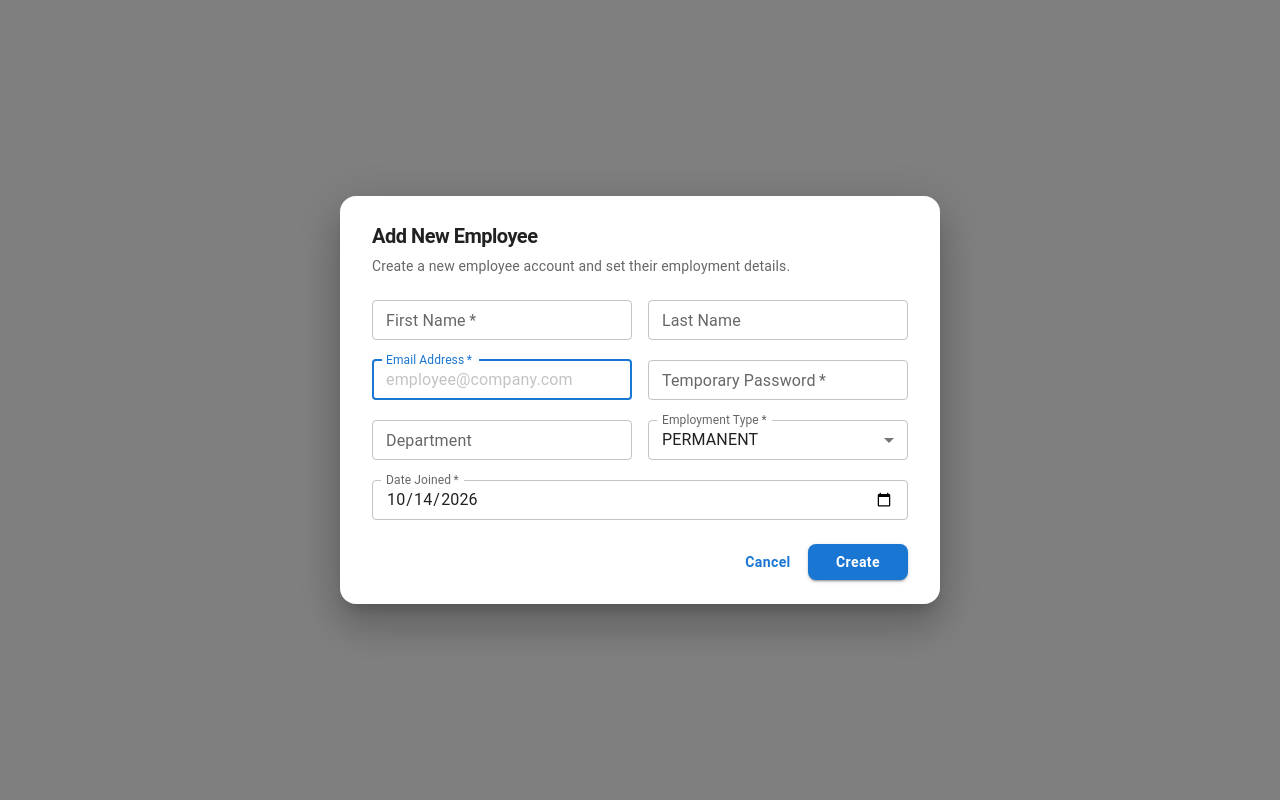
it: shows server validation feedback and keeps the form available to correct it
Type "Riya" into the field labelled "First Name *".
click(502, 320); type("Riya")  # box [372,300,632,340]
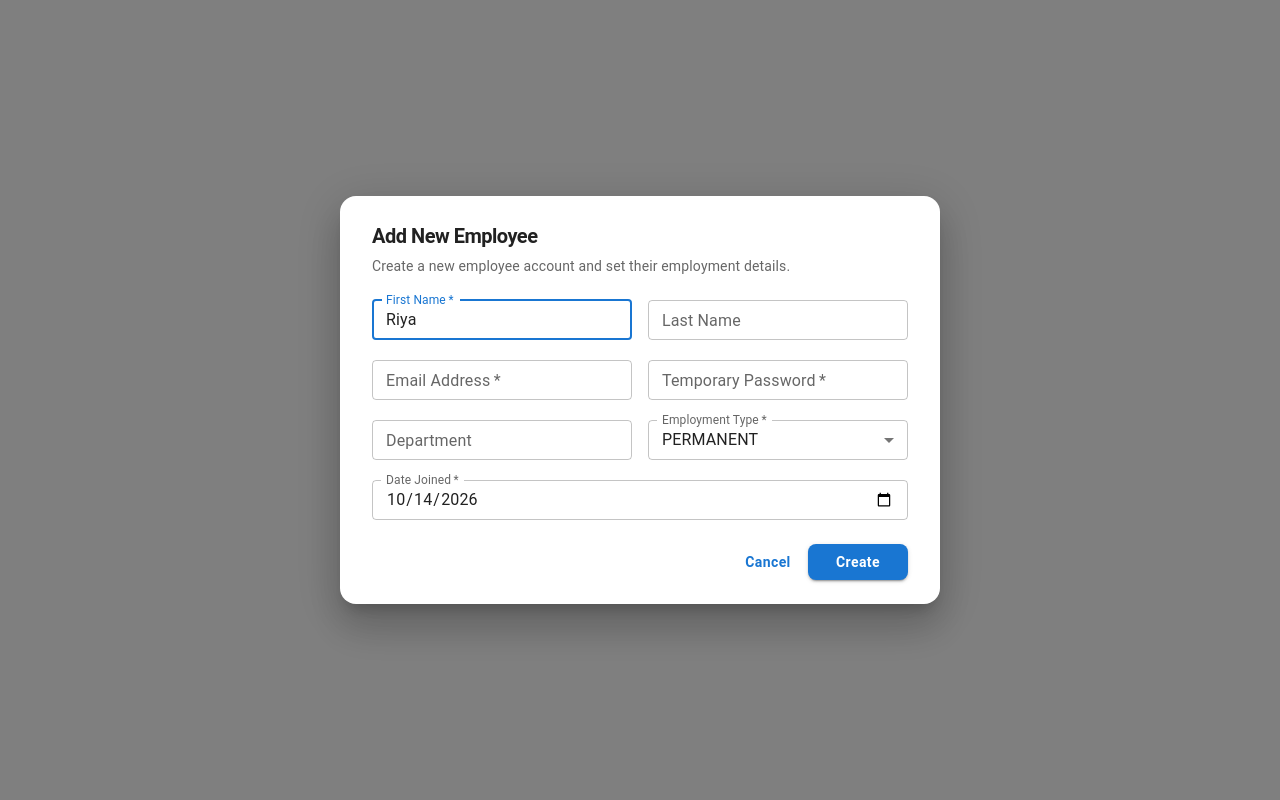
Type "taken@example.test" into the field labelled "Email Address *".
click(502, 380); type("taken@example.test")  # box [372,360,632,400]
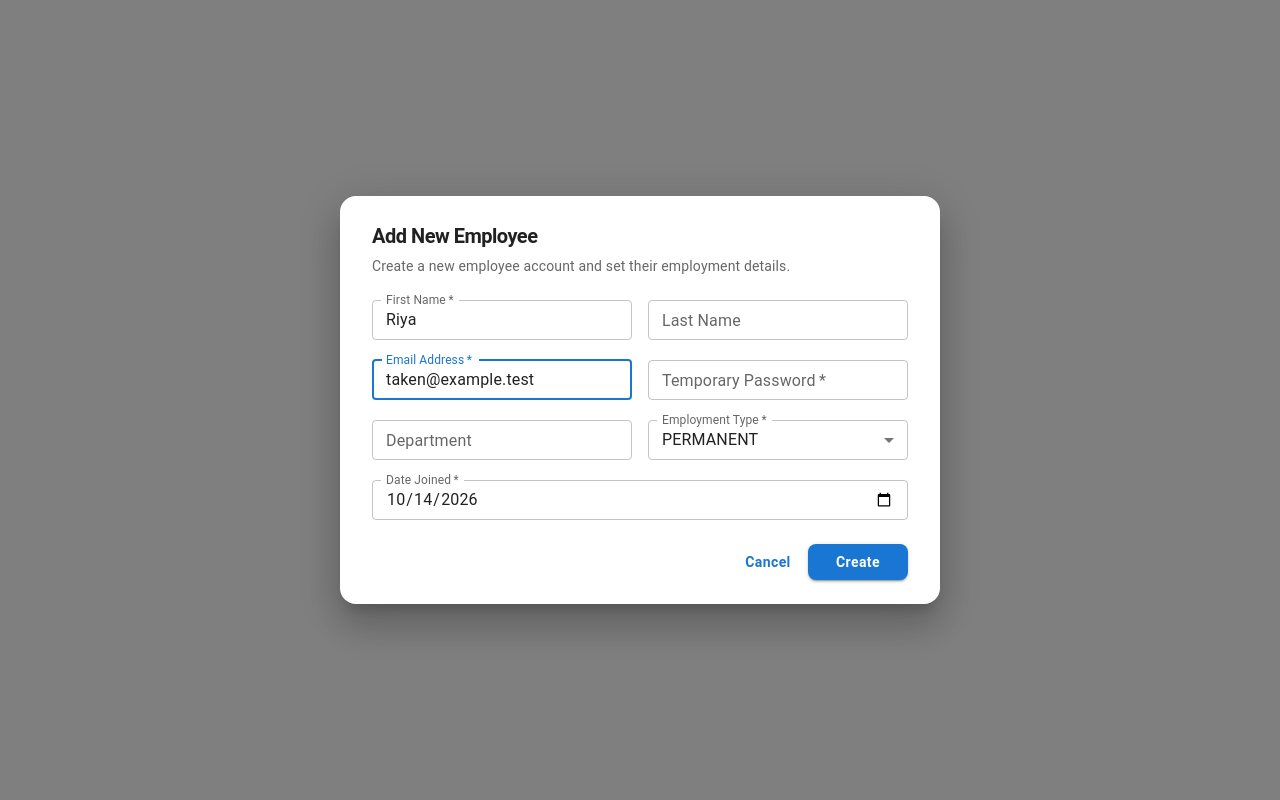
Type "TempPass1!" into the field labelled "Temporary Password *".
click(778, 380); type("TempPass1!")  # box [648,360,908,400]
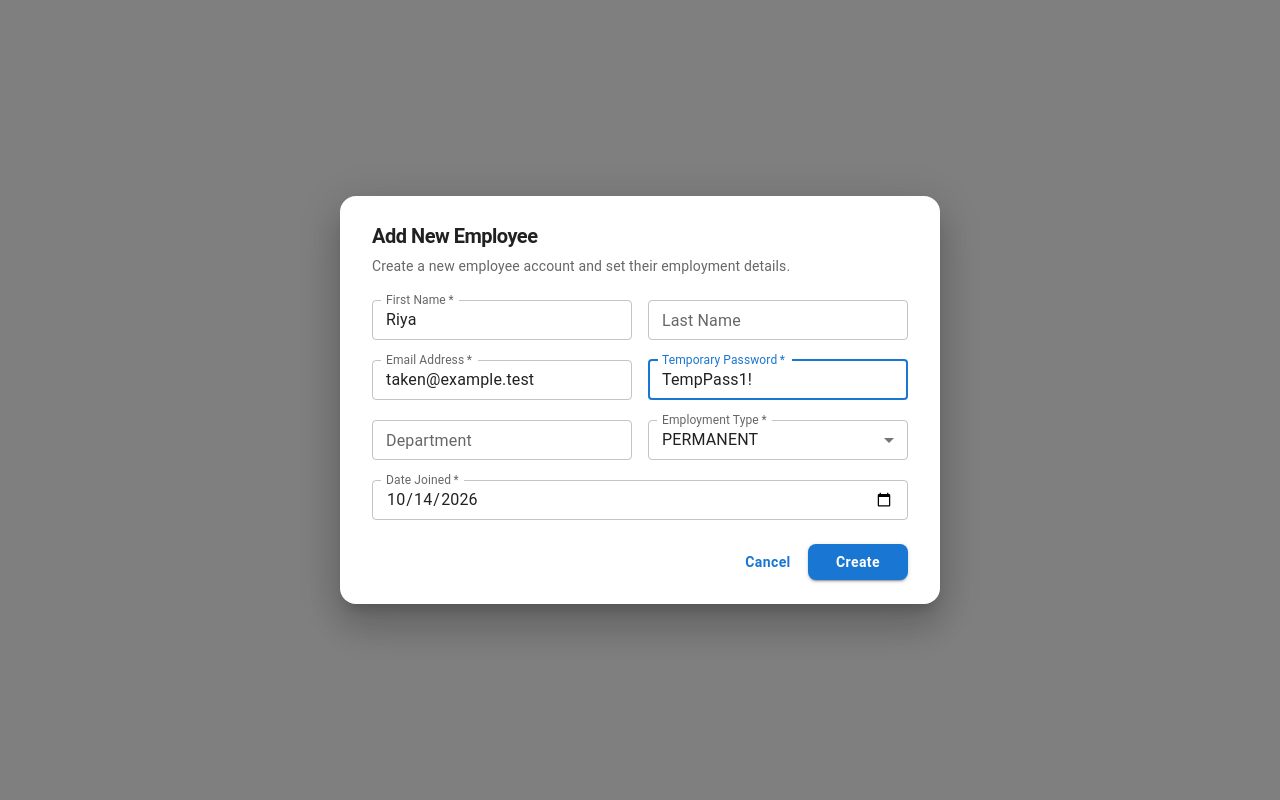
Click the button "Create".
click(858, 562)  # box [808,544,908,580]
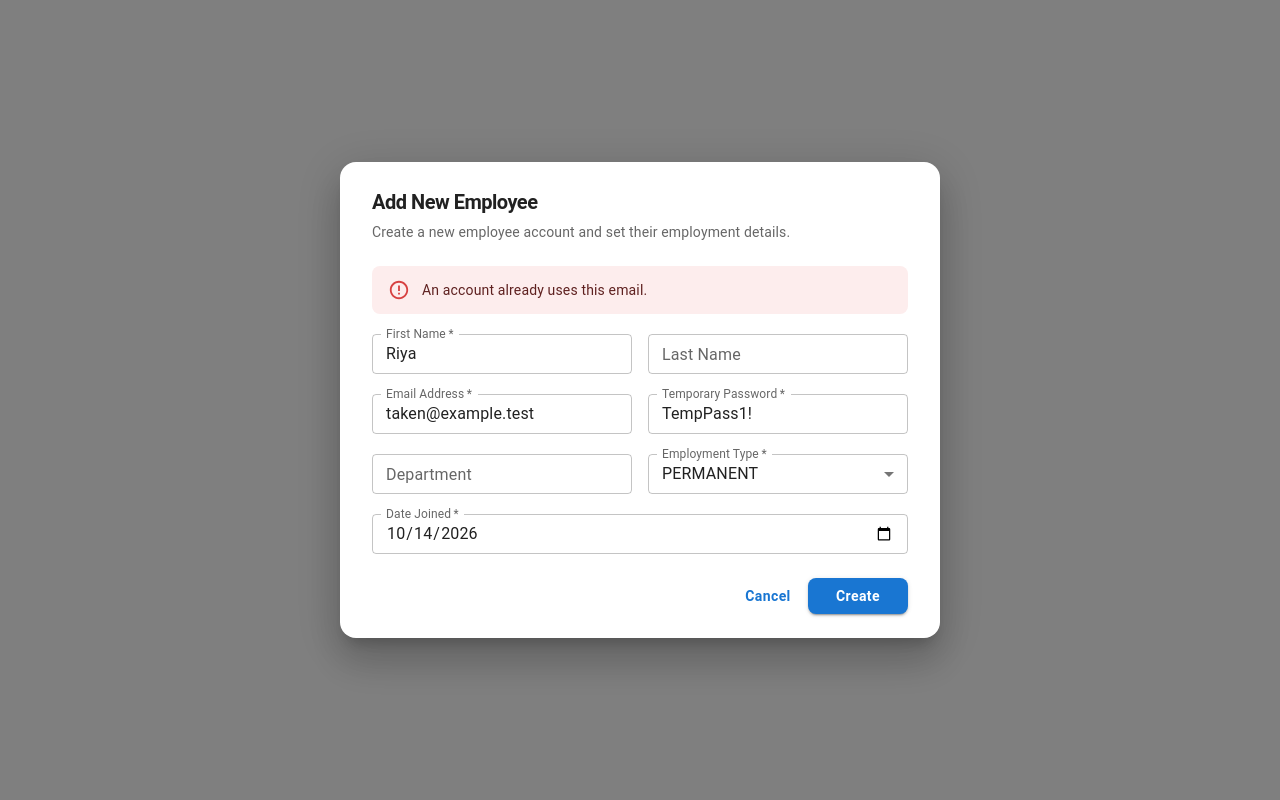
Result: the text "An account already uses this email." is shown at [422,282,647,298]
